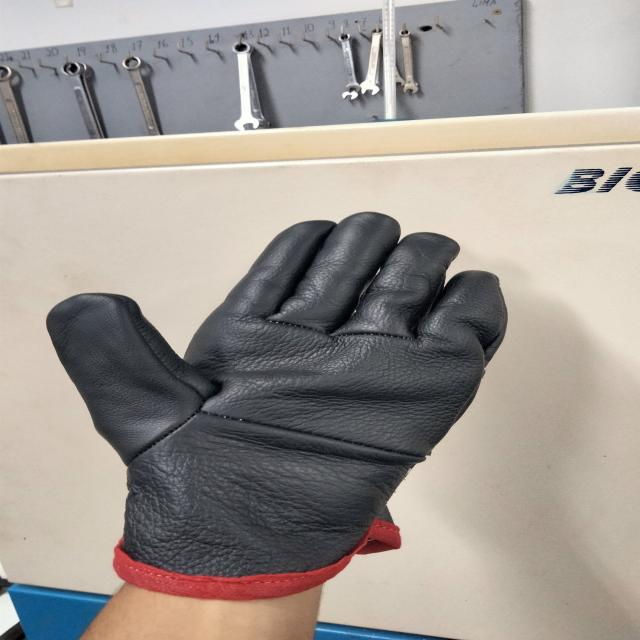Gloves: (49, 204, 504, 590)
